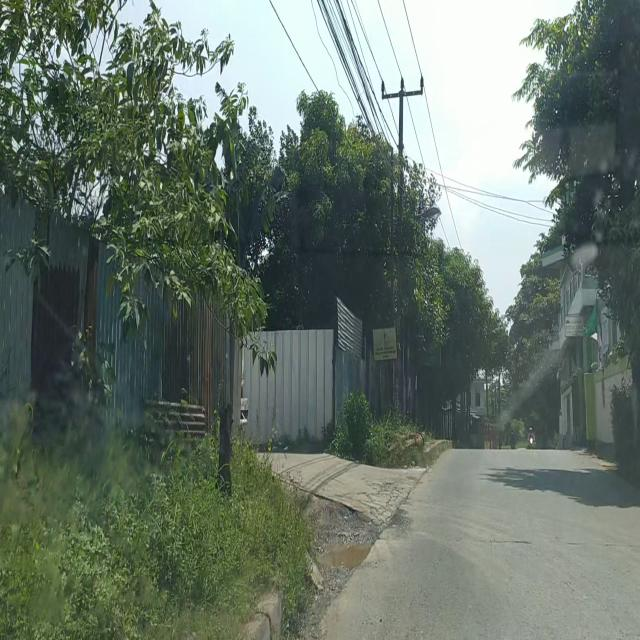Sewer Cover: (490, 537, 531, 545)
